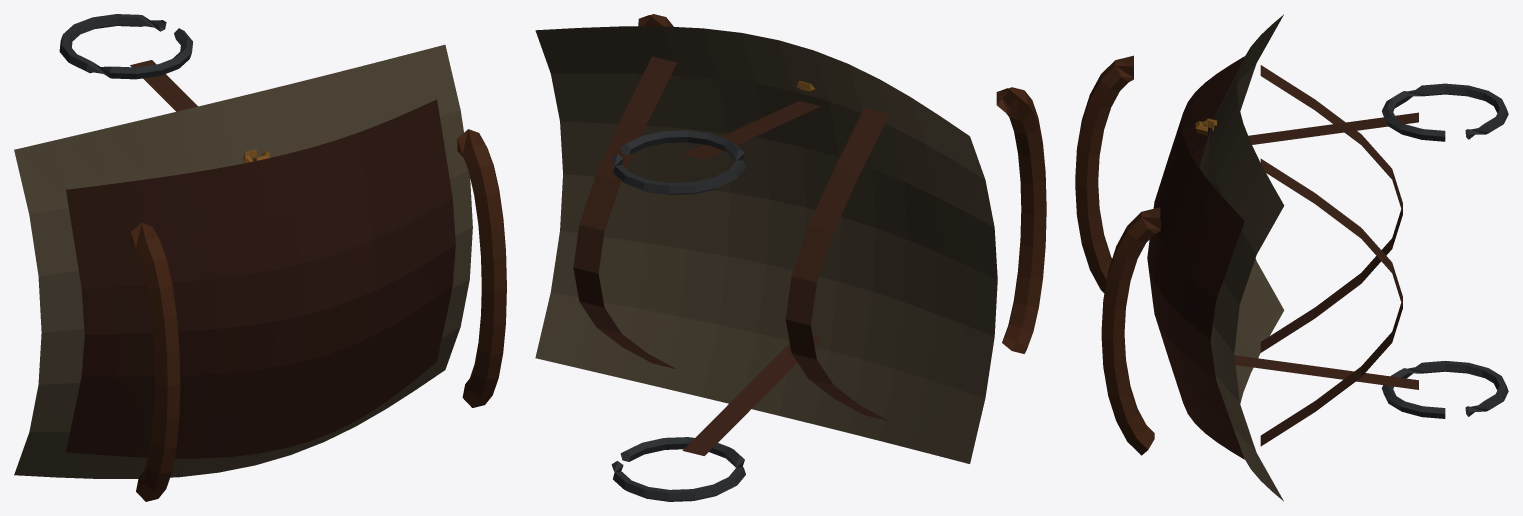
The picture shows the model from 3 angles, left to right: view 1: azimuth 30°, elevation 25°; view 2: azimuth 150°, elevation 25°; view 3: azimuth 270°, elevation 25°; orthographic projection. The views are drawn at different scales.
Parts seen in each view (by area): view 1: Saddle; view 2: Saddle; view 3: Saddle.
Boxes of the visible parts, <box> form: Saddle: <box>14,14,506,501</box>; Saddle: <box>535,14,1046,501</box>; Saddle: <box>1075,14,1508,501</box>.
Size of the model in its own units: 0.86 by 0.71 by 0.8221.
